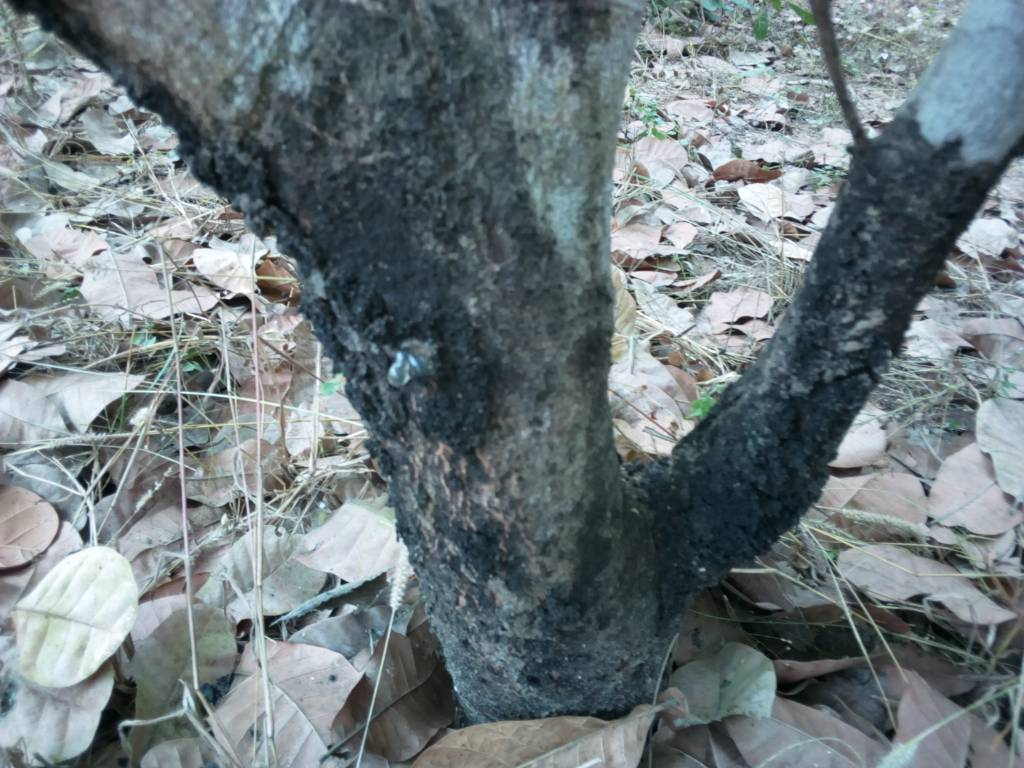Gommose: (718, 125, 940, 603), (366, 55, 496, 632)
